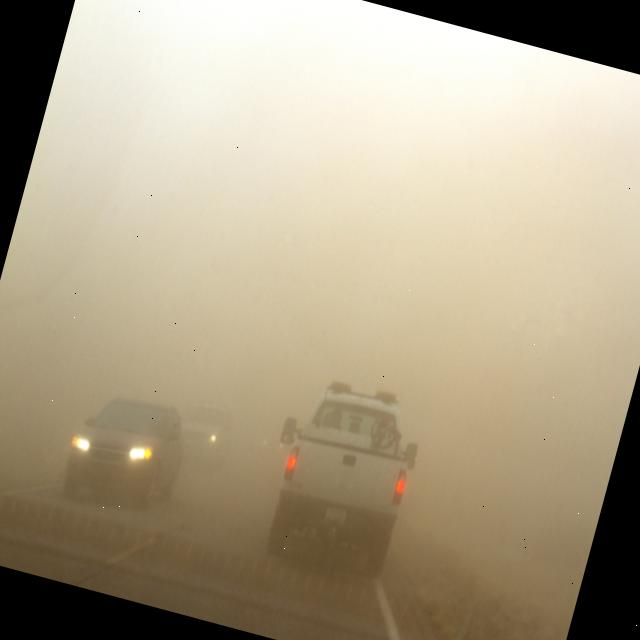bus: (259, 369, 434, 583)
car: (51, 381, 195, 524), (170, 402, 238, 470), (253, 418, 291, 469)
